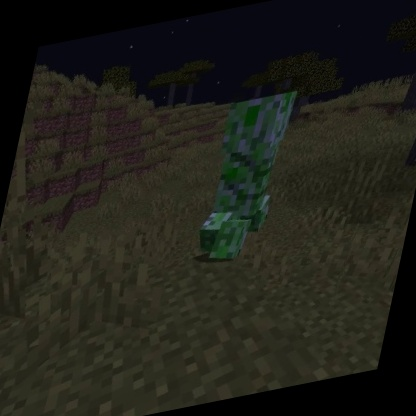creeper: (188, 86, 303, 270)
